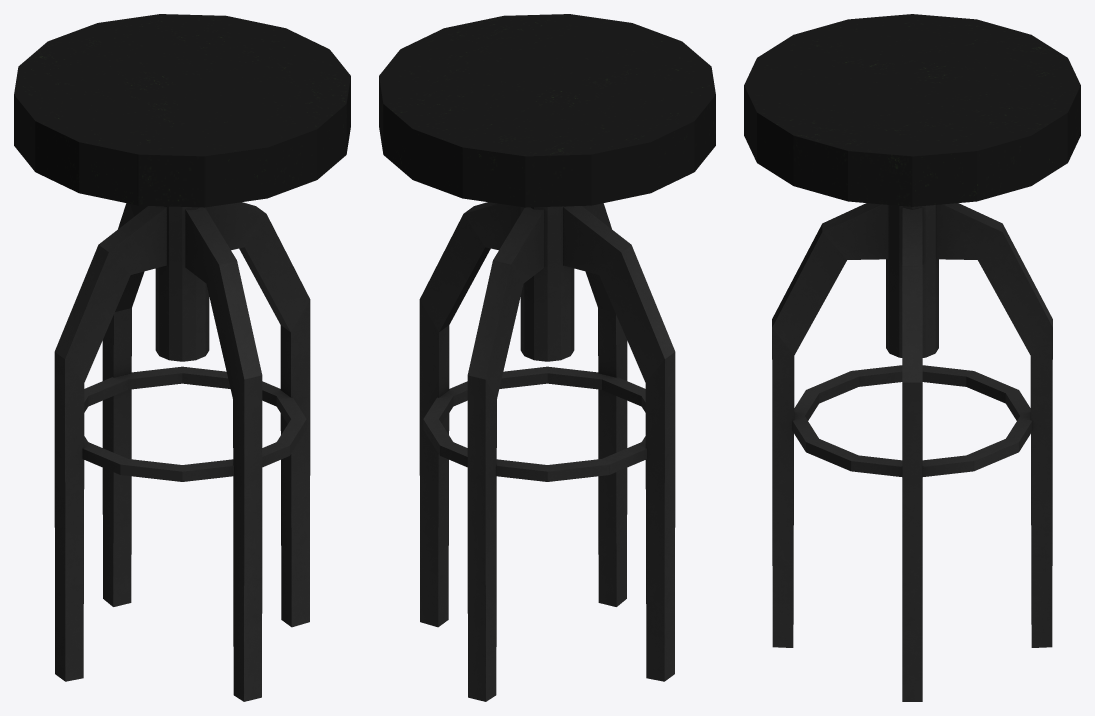
File: Stul2.fbx
3 renders of one model, left to right at view 1: azimuth 30°, elevation 25°; view 2: azimuth 150°, elevation 25°; view 3: azimuth 270°, elevation 25°, orthographic.
Parts seen in each view (by area): view 1: Cylinder.001; view 2: Cylinder.001; view 3: Cylinder.001.
Part boxes in pixels (x1,y1,x2,y2): Cylinder.001: (14, 14, 350, 701); Cylinder.001: (379, 14, 715, 701); Cylinder.001: (744, 14, 1080, 701).
Size of the model in its own units: 49.15 by 89.98 by 49.15.
1 material, 1 textured.
